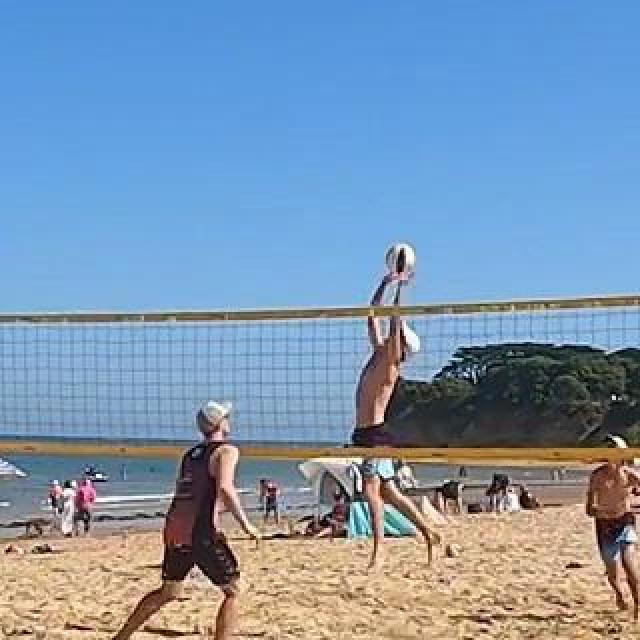volleyball: (385, 243, 415, 273), (445, 540, 463, 558)
